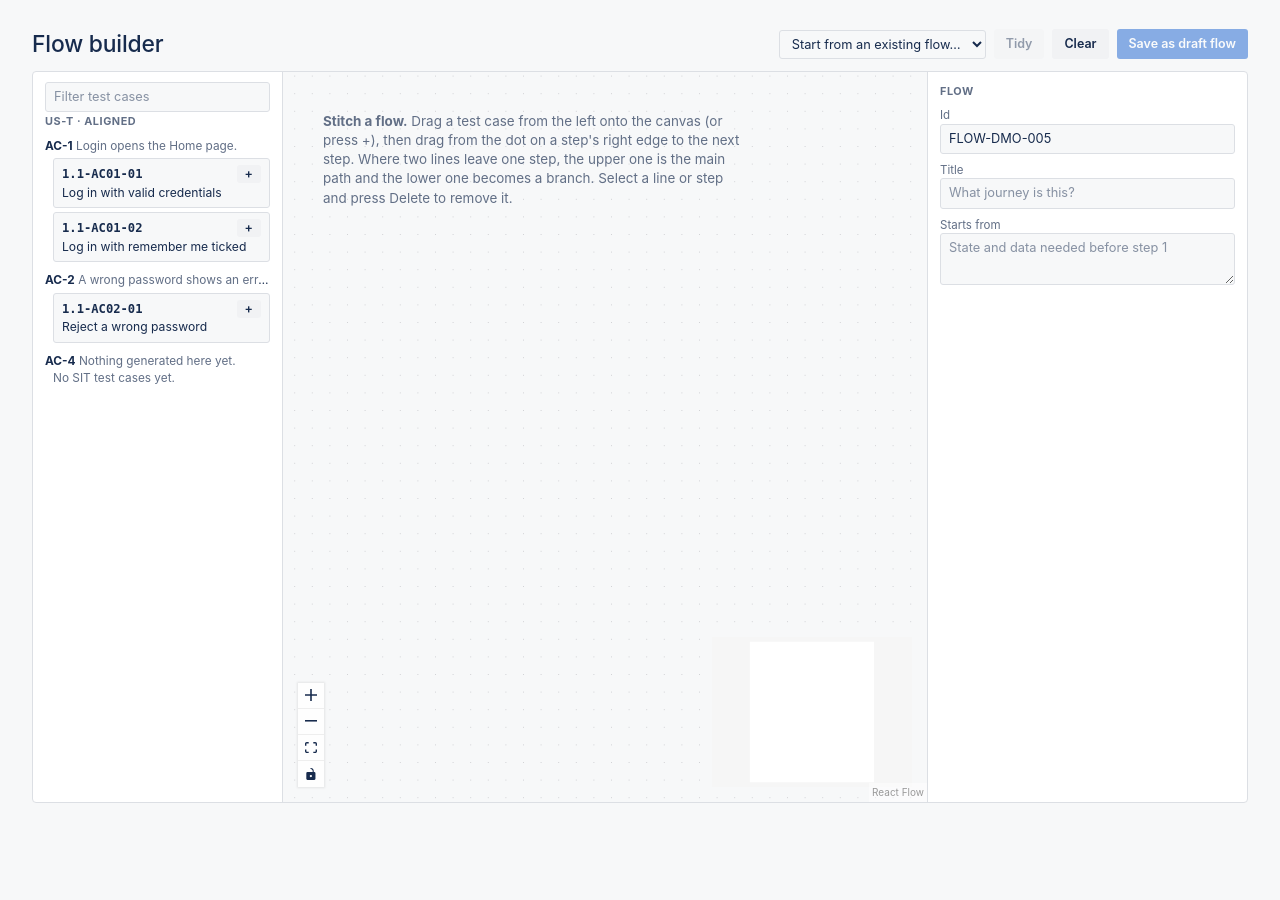
Test: FlowBuilderPage › shows a refusal from the command verbatim
Click the button named "Add 1.1-AC01-01". click: (249, 174)
box: [237,166,261,183]
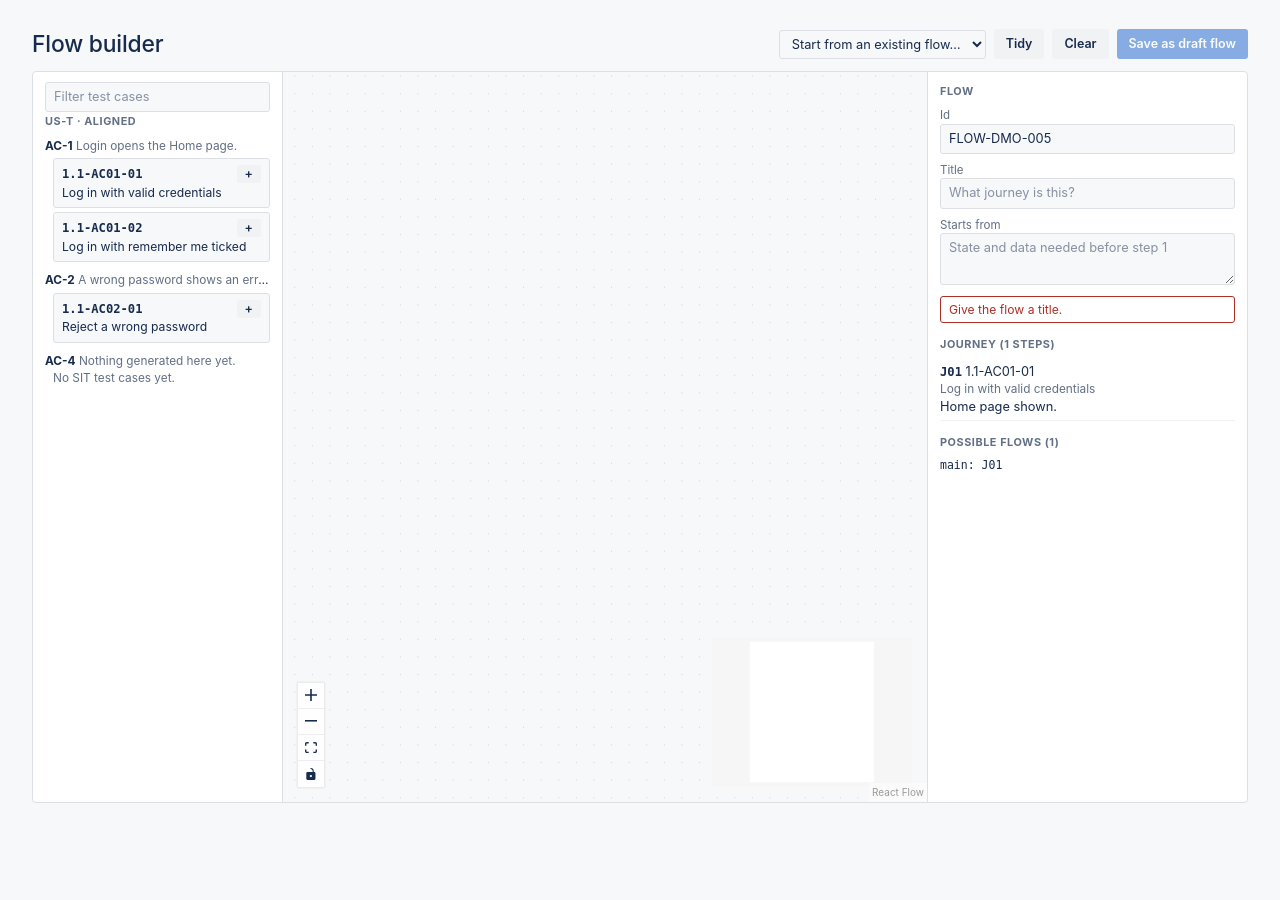
Type "Login" into the field with placeholder "What journey is this?". click: (1088, 194)
box: [940,178,1235,209]
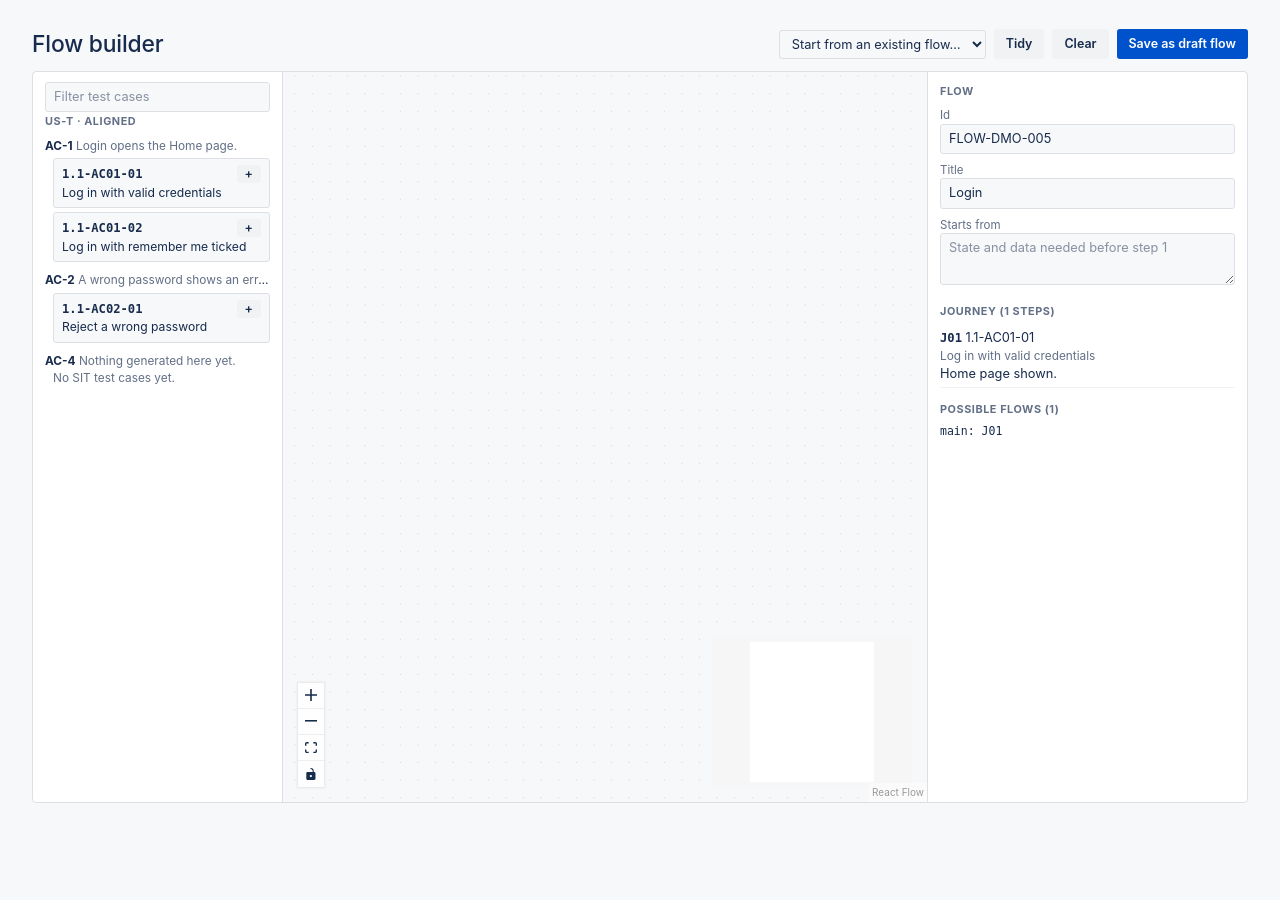
Result: the button "Save as draft flow" is enabled
Click the button "Save as draft flow". click: (1182, 44)
box: [1116,29,1248,59]
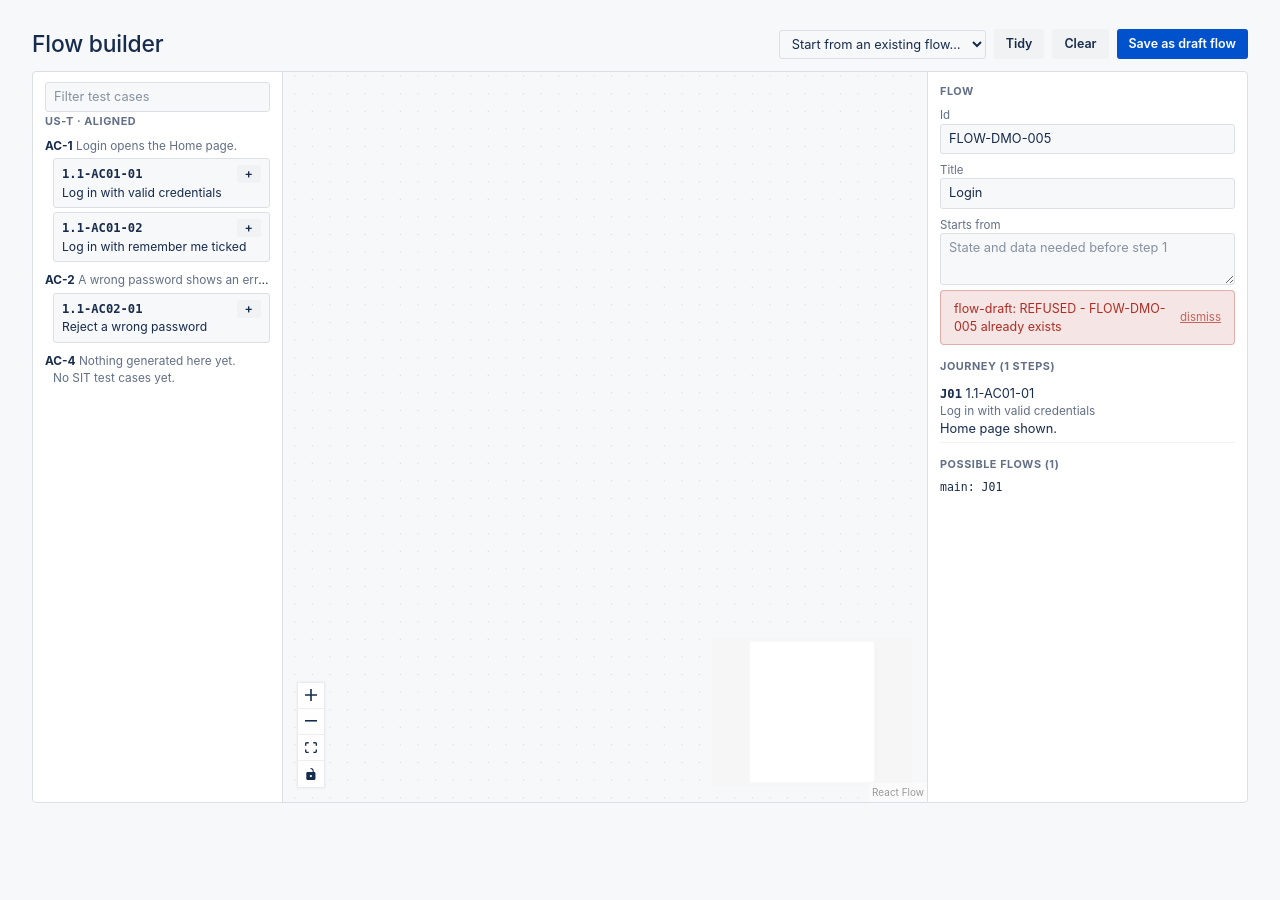
Result: the text "flow-draft: REFUSED - FLOW-DMO-005 already exists" is shown at [954,301,1165,334]
